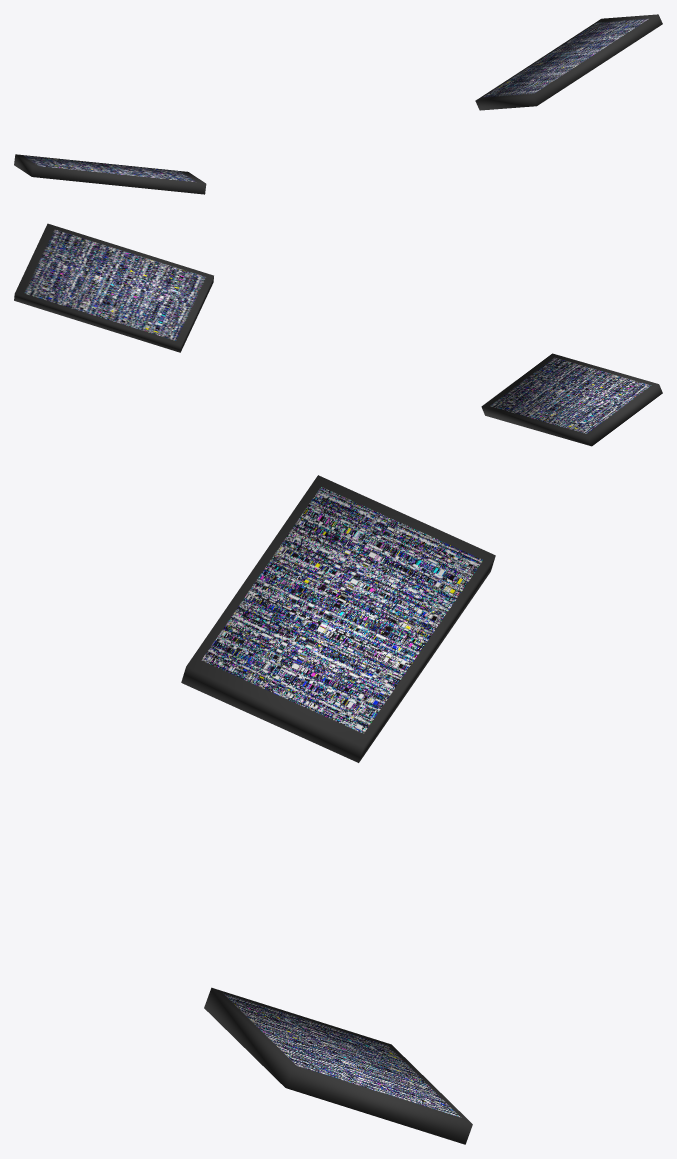
File: spaceship_chunks_screen.fbx
The picture shows the model from 3 angles, top to bottom: view 1: azimuth 30°, elevation 25°; view 2: azimuth 150°, elevation 25°; view 3: azimuth 270°, elevation 25°; orthographic projection. The views are drawn at different scales.
Parts seen in each view (by area): view 1: Cube.007; view 2: Cube.007; view 3: Cube.007.
Part boxes in pixels (x1,y1,x2,y2): Cube.007: [14, 14, 662, 194]; Cube.007: [14, 223, 662, 446]; Cube.007: [181, 475, 495, 1144].
Bounding box in the file's own units: 381 × 43.63 × 83.28.
